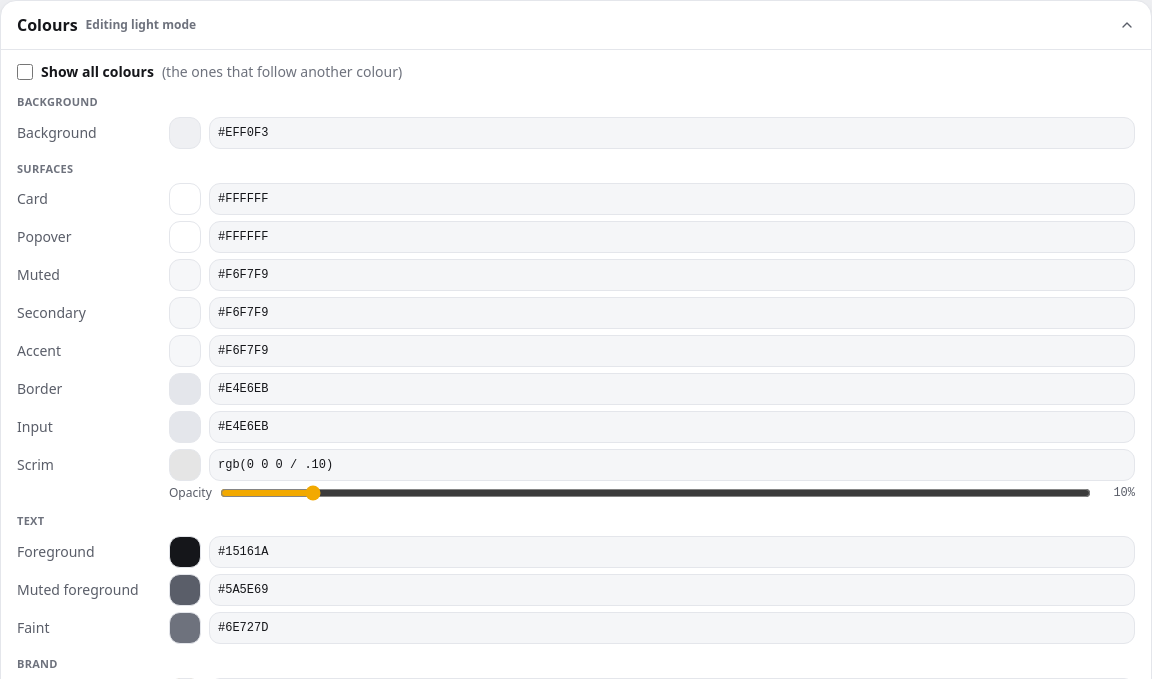
Test: EditorControls plugin tokens › hides derived colours until Show all colours is ticked
Expected: the field named "Foreground" is shown, [209, 536, 1135, 568]
Click the checkbox labelled "Show all colours (the ones that follow another colour)".
click(25, 72)  # box [17, 64, 33, 80]
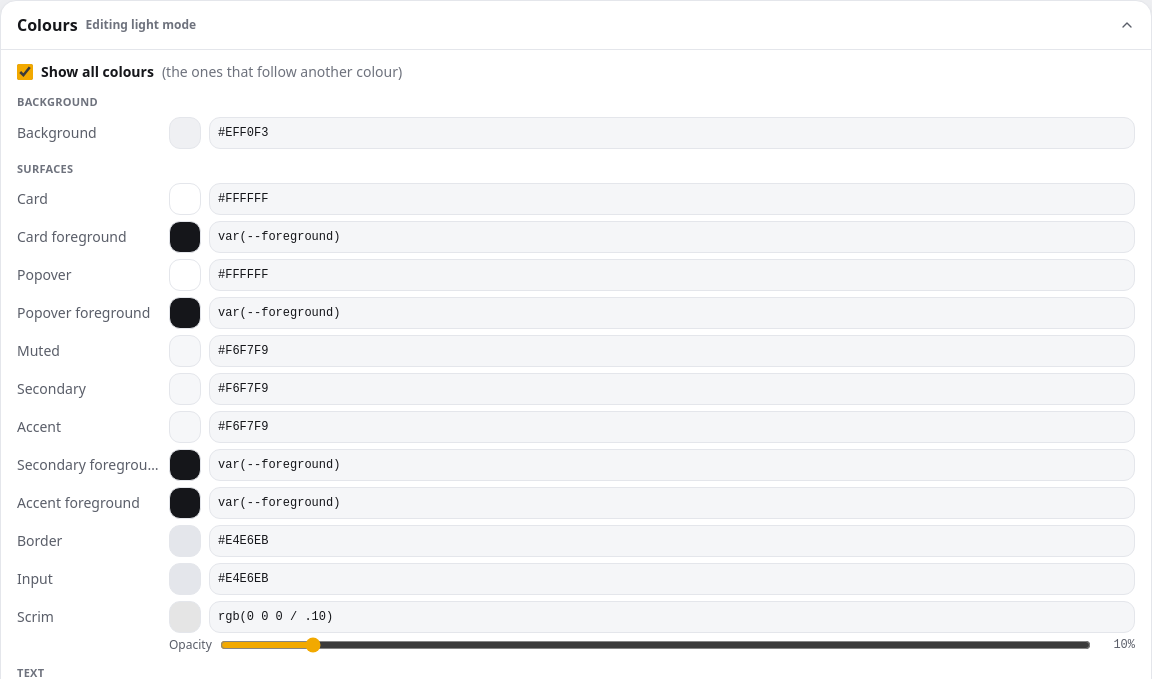
Result: the field named "Card foreground" is shown at [209, 221, 1135, 253]
